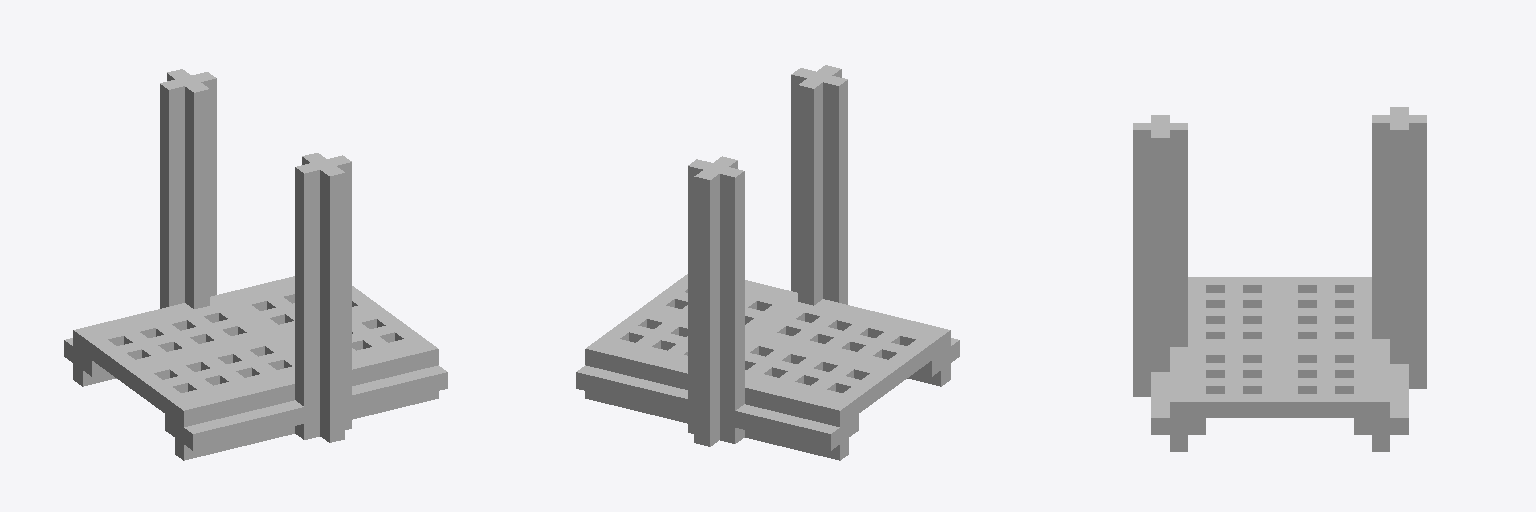
The model's file is pole_scaffolding_base_floor_steel.obj.
3 renders of one model, left to right at view 1: azimuth 30°, elevation 25°; view 2: azimuth 150°, elevation 25°; view 3: azimuth 270°, elevation 25°, orthographic.
Parts seen in each view (by area): view 1: node_0_0_0; view 2: node_0_0_0; view 3: node_0_0_0.
Part boxes in pixels (x1,y1,x2,y2): node_0_0_0: (64,69,447,460); node_0_0_0: (576,65,959,460); node_0_0_0: (1133,107,1426,451).
Size of the model in its own units: 1 by 1 by 1.